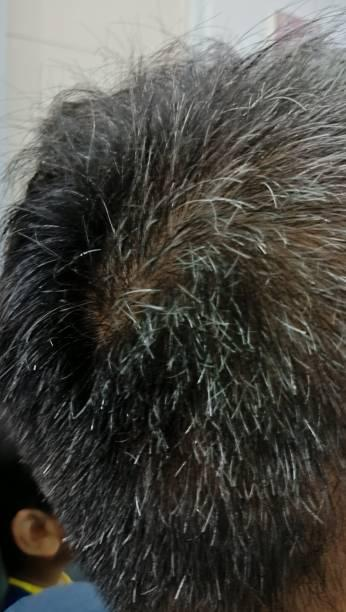grey hair: (170, 183, 267, 216), (76, 533, 128, 573), (209, 437, 238, 494), (212, 230, 256, 266), (197, 378, 224, 433), (272, 307, 312, 342), (109, 283, 172, 303), (297, 416, 327, 457), (198, 308, 238, 335), (62, 394, 99, 421), (60, 243, 118, 260), (169, 450, 190, 494), (173, 568, 191, 610), (203, 499, 218, 547), (125, 494, 146, 522), (164, 346, 176, 378), (127, 580, 139, 610)
